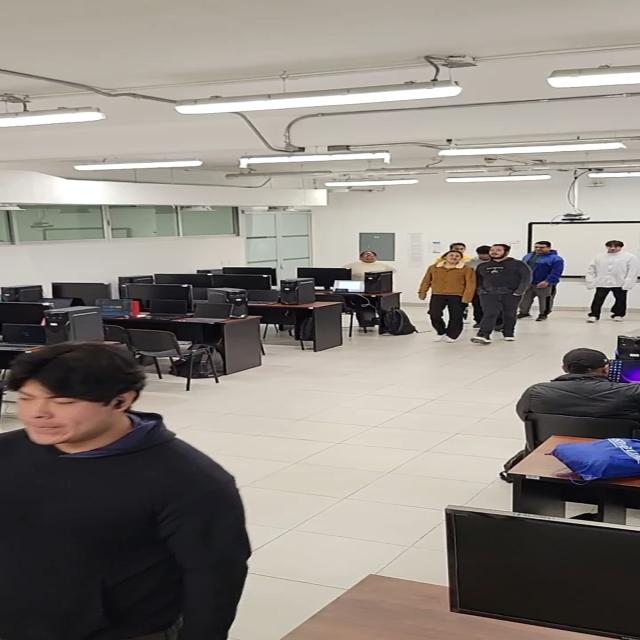Persona: (0, 344, 258, 638), (471, 242, 532, 344), (418, 251, 477, 342), (584, 239, 640, 325), (517, 240, 566, 322), (467, 243, 502, 272), (446, 242, 478, 266)
